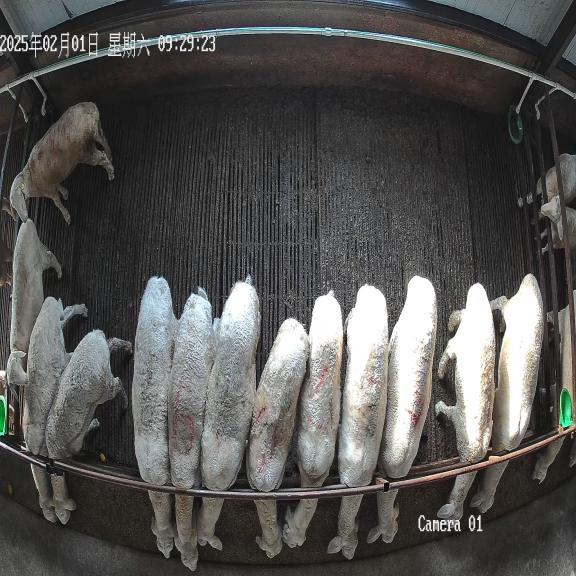eating: (367, 276, 437, 543), (470, 274, 544, 513), (197, 276, 260, 550), (327, 284, 389, 559), (45, 330, 132, 524), (282, 290, 343, 548), (246, 318, 308, 558), (23, 296, 88, 522), (435, 283, 495, 519), (168, 287, 216, 570), (132, 276, 180, 558)
stand: (10, 102, 114, 224), (6, 219, 62, 385)
